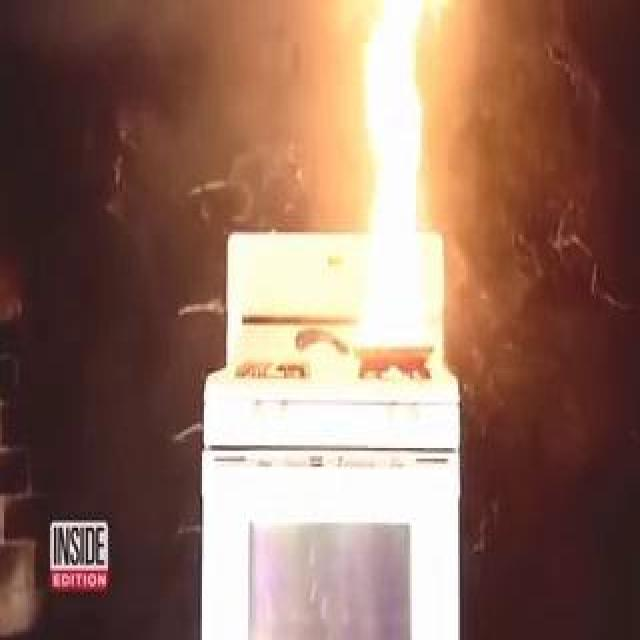Fire: (329, 3, 459, 360)
